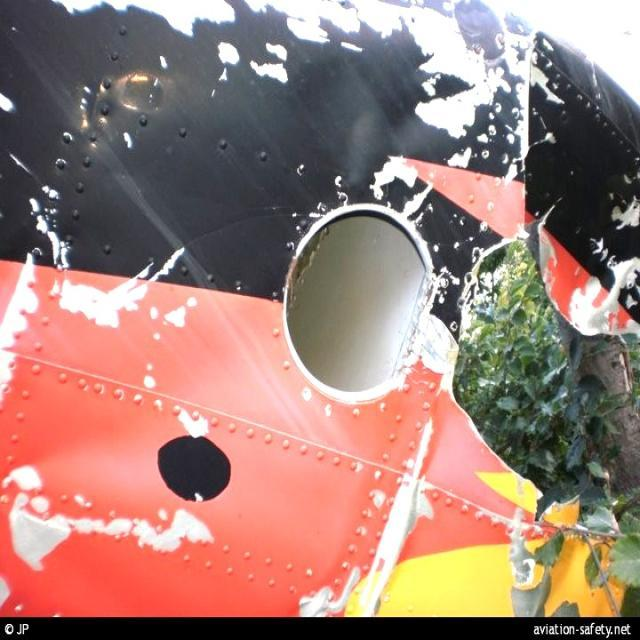dent: (297, 56, 435, 191), (5, 423, 161, 506)
